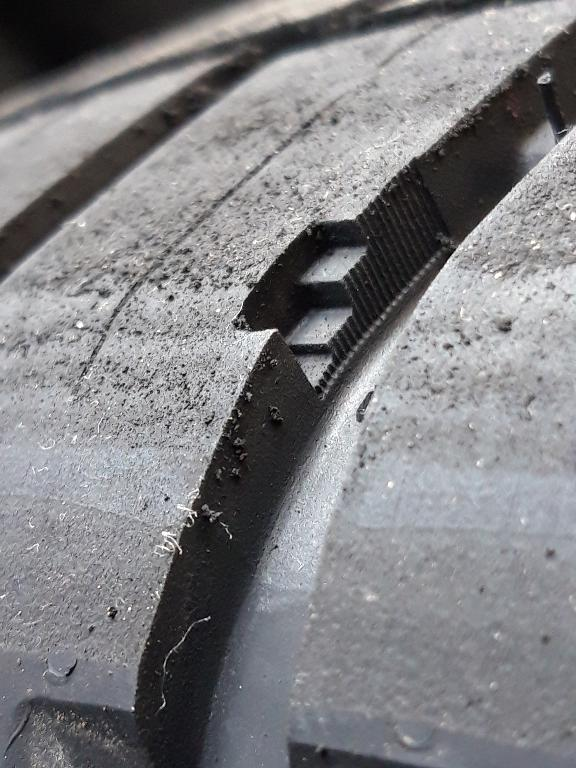temoin:75: (222, 187, 426, 406)
